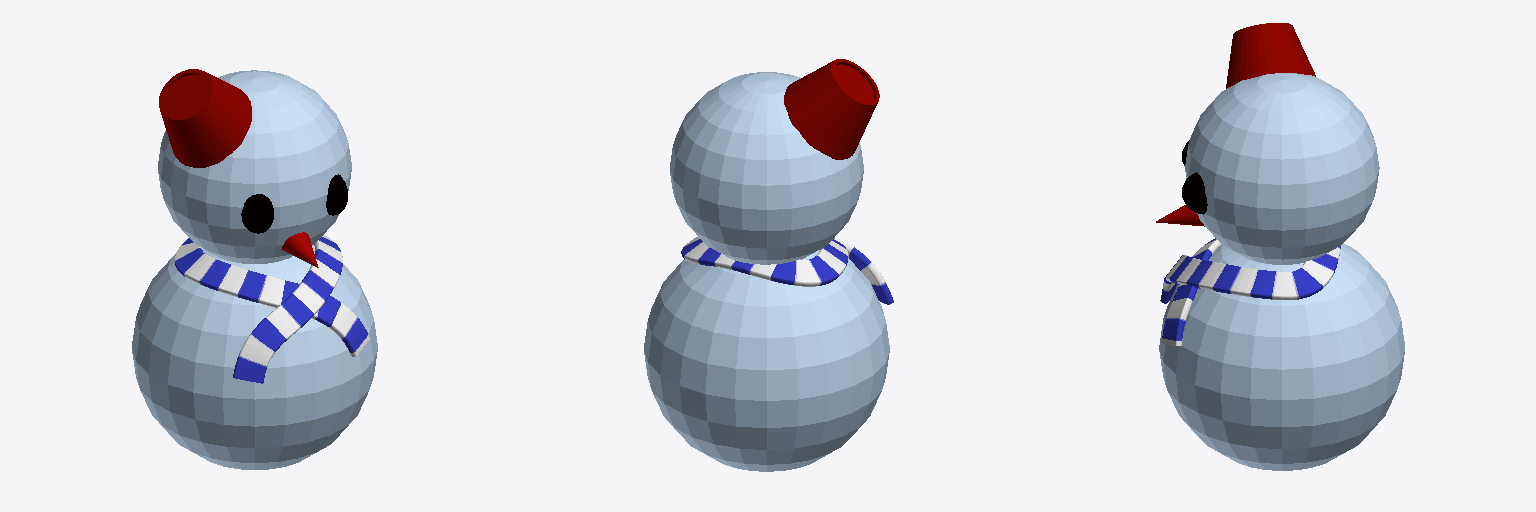
The picture shows the model from 3 angles: view 1: azimuth 30°, elevation 25°; view 2: azimuth 150°, elevation 25°; view 3: azimuth 270°, elevation 25°; orthographic projection.
Visible parts, largest first — view 1: Body, Head, Scarf, Hat, Eyes, Nose; view 2: Body, Head, Hat, Scarf; view 3: Body, Head, Scarf, Hat, Eyes, Nose.
Part boxes in pixels (bbox=[...]): Body: bbox=[132, 245, 377, 469]; Head: bbox=[158, 70, 351, 263]; Scarf: bbox=[174, 235, 369, 383]; Hat: bbox=[159, 69, 251, 167]; Eyes: bbox=[241, 174, 347, 233]; Nose: bbox=[282, 232, 318, 267]; Body: bbox=[644, 250, 889, 471]; Head: bbox=[670, 72, 863, 264]; Hat: bbox=[784, 59, 879, 159]; Scarf: bbox=[681, 237, 893, 304]; Body: bbox=[1159, 243, 1404, 470]; Head: bbox=[1185, 73, 1379, 264]; Scarf: bbox=[1160, 238, 1340, 345]; Hat: bbox=[1226, 23, 1315, 88]; Eyes: bbox=[1182, 140, 1207, 214]; Nose: bbox=[1156, 205, 1204, 226].
Bounding box in the file's own units: 6.33 × 11.56 × 6.45.
Materials: 5 (2 with a texture image).